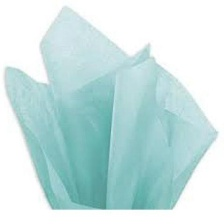tissue: (0, 2, 222, 213)
